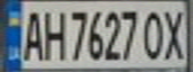2: (103, 6, 124, 61)
6: (84, 6, 106, 61)
7: (66, 6, 87, 61), (121, 6, 142, 61)
A: (18, 6, 45, 62)
H: (39, 6, 69, 61)
O: (139, 6, 169, 61)
X: (160, 6, 190, 61)
